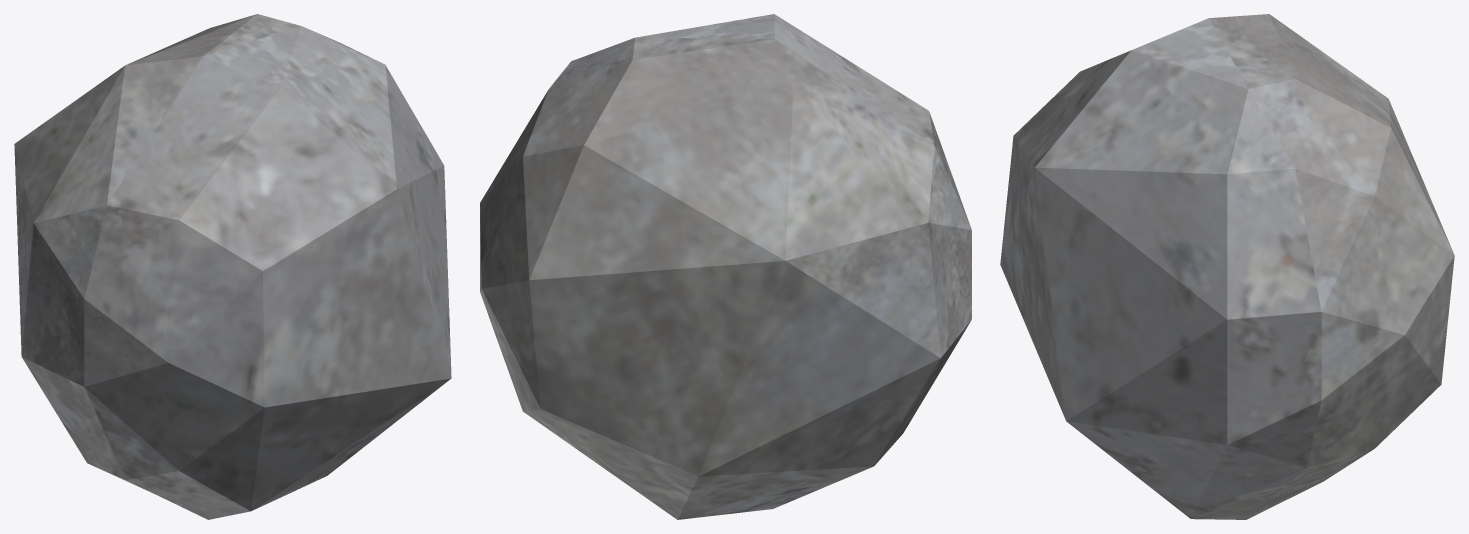
Rendered from mg_12_crystal_1.fbx.
3 renders of one model, left to right at view 1: azimuth 30°, elevation 25°; view 2: azimuth 150°, elevation 25°; view 3: azimuth 270°, elevation 25°, orthographic.
Visible parts, largest first — view 1: mg_12_crystal_1; view 2: mg_12_crystal_1; view 3: mg_12_crystal_1.
Part boxes in pixels (bbox=[...]): mg_12_crystal_1: bbox=[14, 14, 451, 519]; mg_12_crystal_1: bbox=[480, 14, 971, 519]; mg_12_crystal_1: bbox=[1000, 14, 1454, 519].
Bounding box in the file's own units: 13.83 × 14.39 × 12.78.
